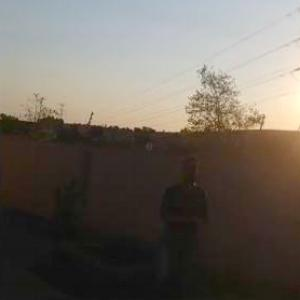follow: (153, 149, 213, 299)
